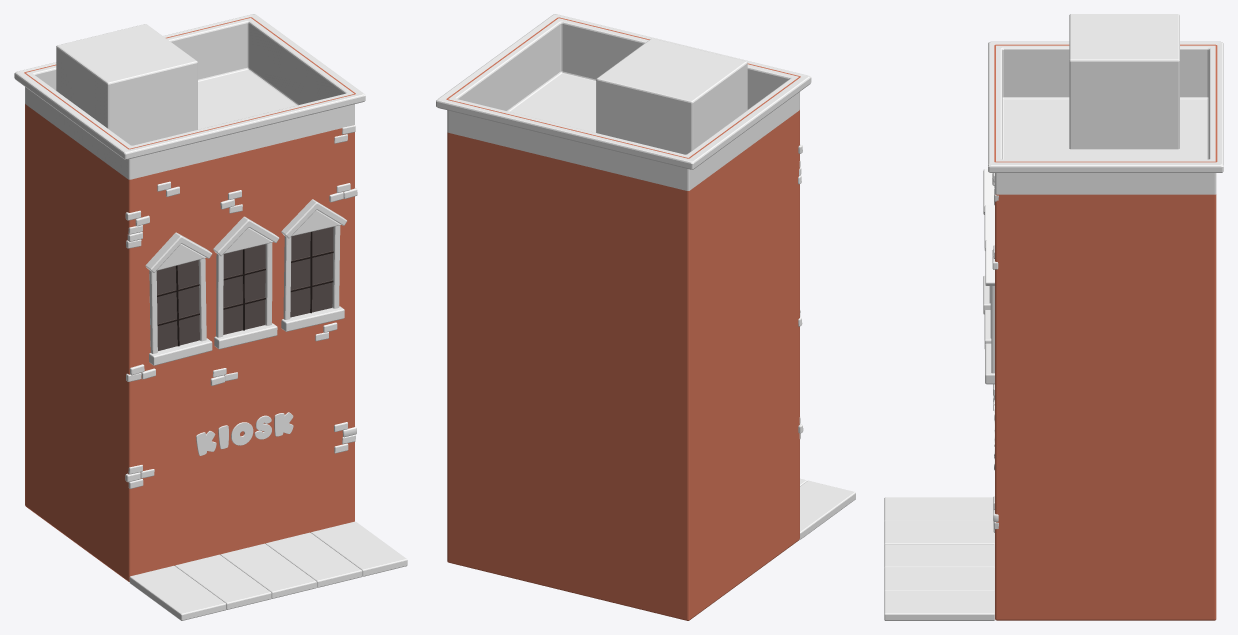
The model's file is diorama.glb.
3 renders of one model, left to right at view 1: azimuth 30°, elevation 25°; view 2: azimuth 150°, elevation 25°; view 3: azimuth 270°, elevation 25°, orthographic. The views are drawn at different scales.
Parts seen in each view (by area): view 1: House, Sidewalk.001; view 2: House, Sidewalk.001; view 3: House, Sidewalk.001.
Part boxes in pixels (bbox=[...]): House: bbox=[14, 14, 365, 581]; Sidewalk.001: bbox=[129, 521, 407, 620]; House: bbox=[436, 14, 811, 620]; Sidewalk.001: bbox=[799, 478, 855, 539]; House: bbox=[983, 14, 1223, 620]; Sidewalk.001: bbox=[884, 497, 994, 620].
Size of what is drawn, in the model's own units: 5.32 by 9.93 by 6.13.
